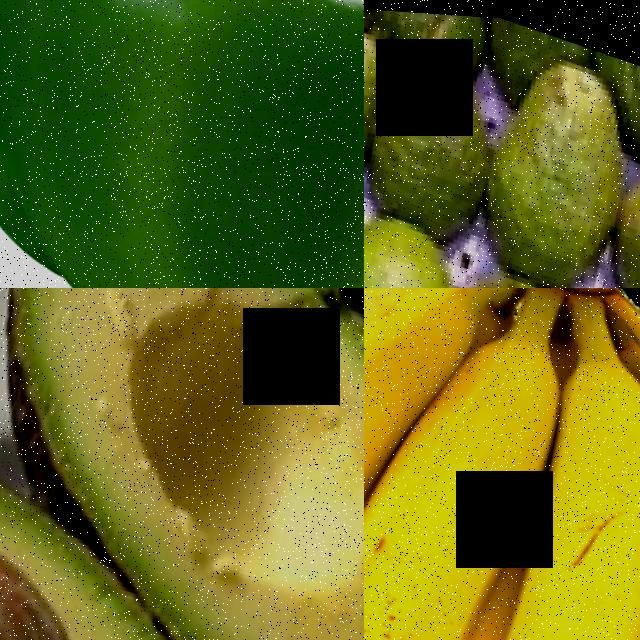avocado: (0, 288, 364, 640), (0, 371, 364, 640), (452, 41, 640, 288), (364, 56, 514, 246), (364, 192, 476, 288), (364, 0, 411, 199), (417, 236, 591, 288), (585, 144, 640, 288), (615, 60, 640, 170)
banana: (364, 288, 640, 640)
bell pepper: (0, 0, 364, 288)
